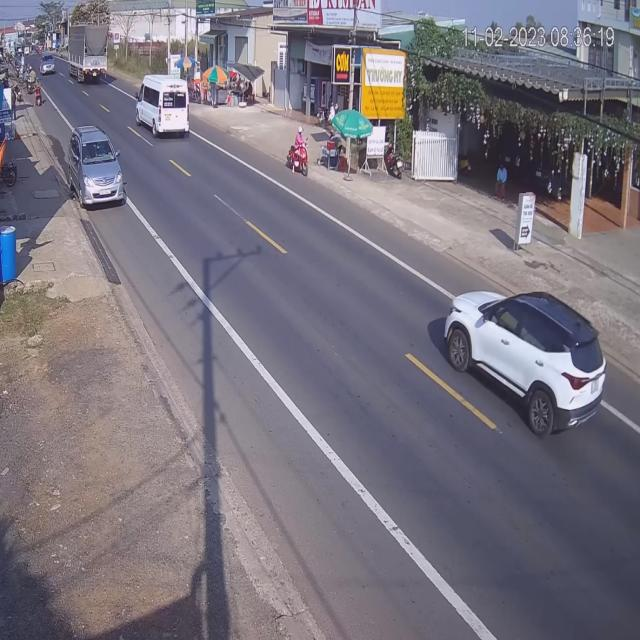bus: (134, 72, 190, 140)
car: (444, 295, 610, 441), (68, 126, 126, 210), (40, 54, 55, 78)
motorbike: (286, 130, 307, 177)
truck: (68, 26, 108, 86)
